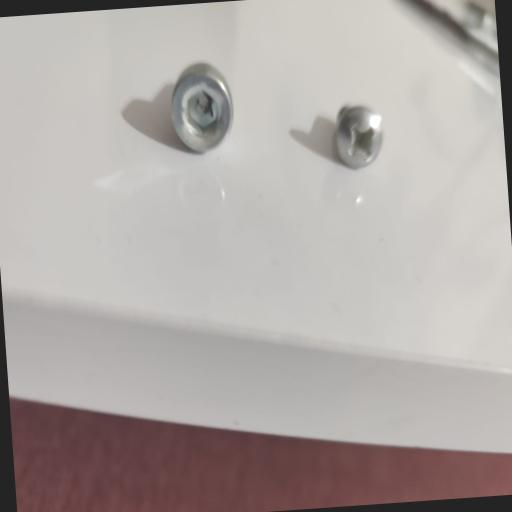Hex-Allen: (154, 49, 244, 171)
Phillips: (327, 102, 388, 175)
